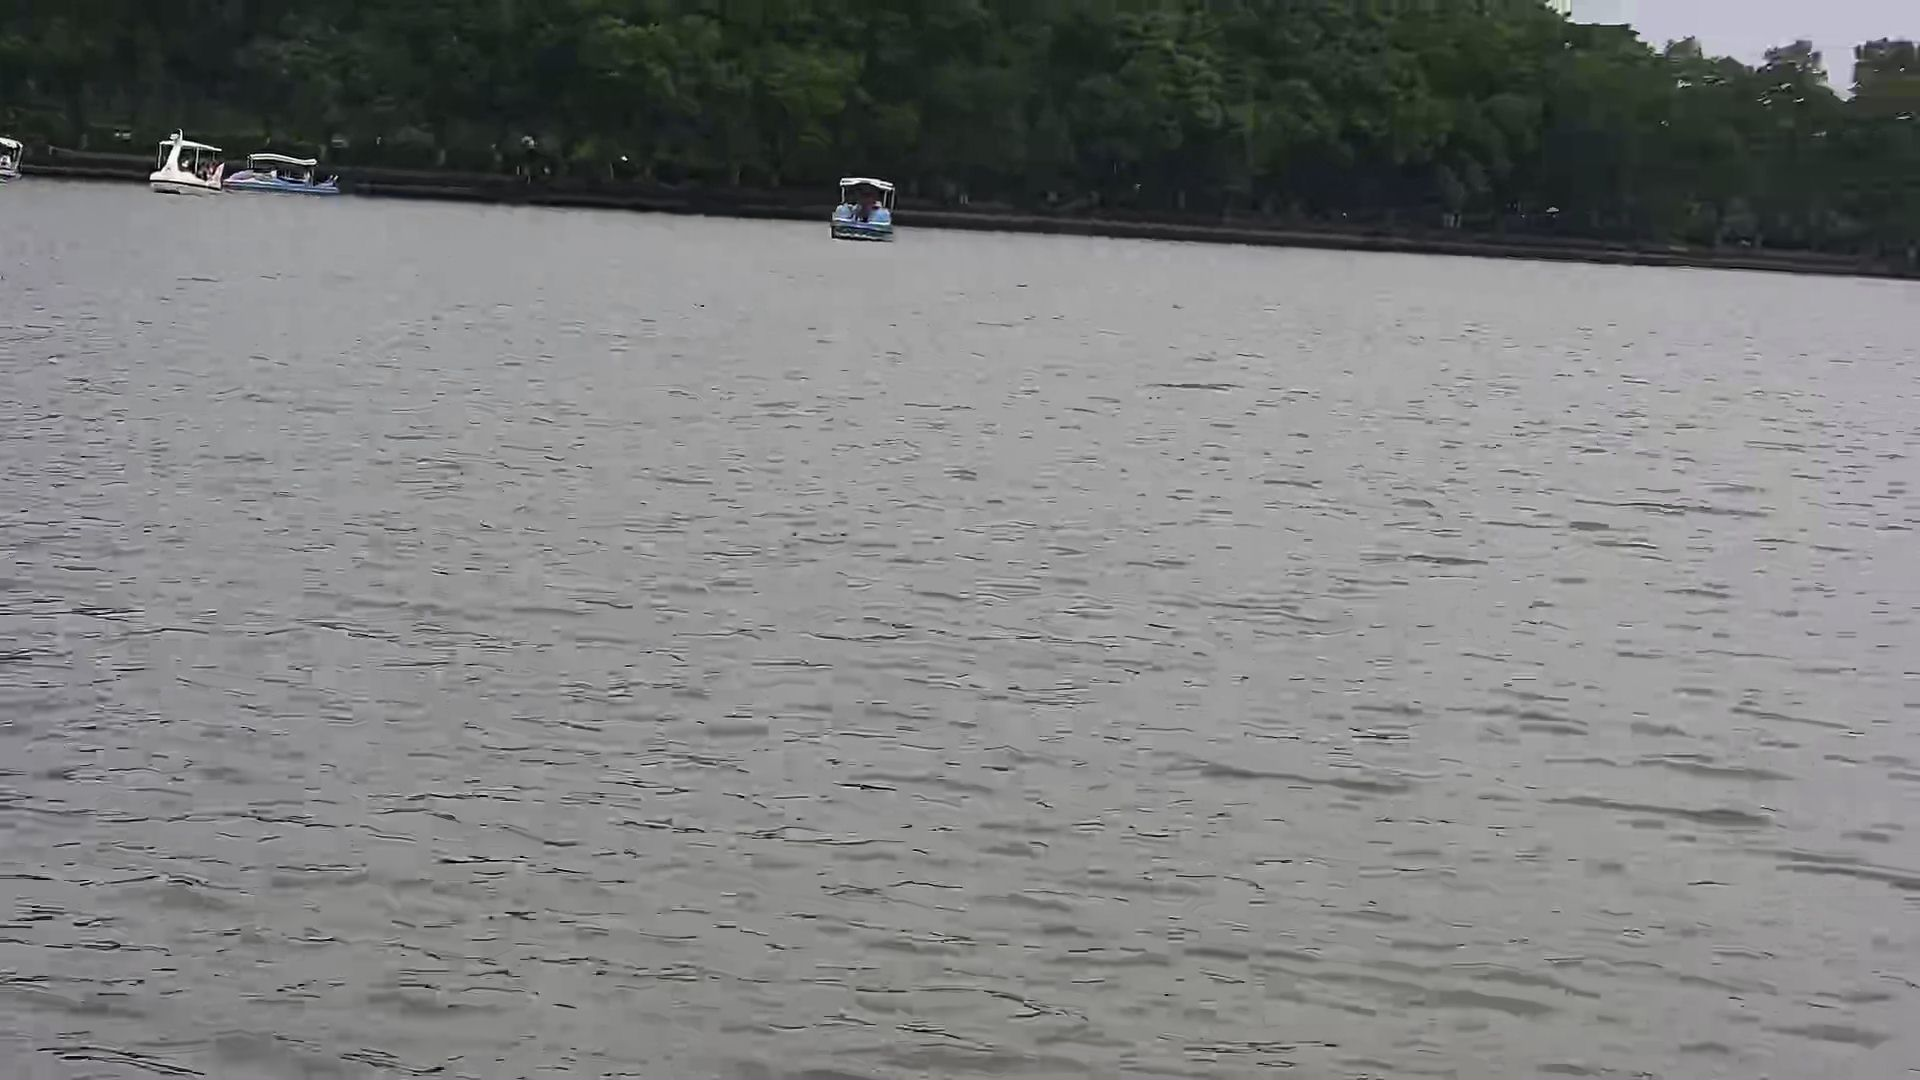boat: (223, 144, 349, 198), (818, 170, 901, 241), (141, 131, 224, 200)
